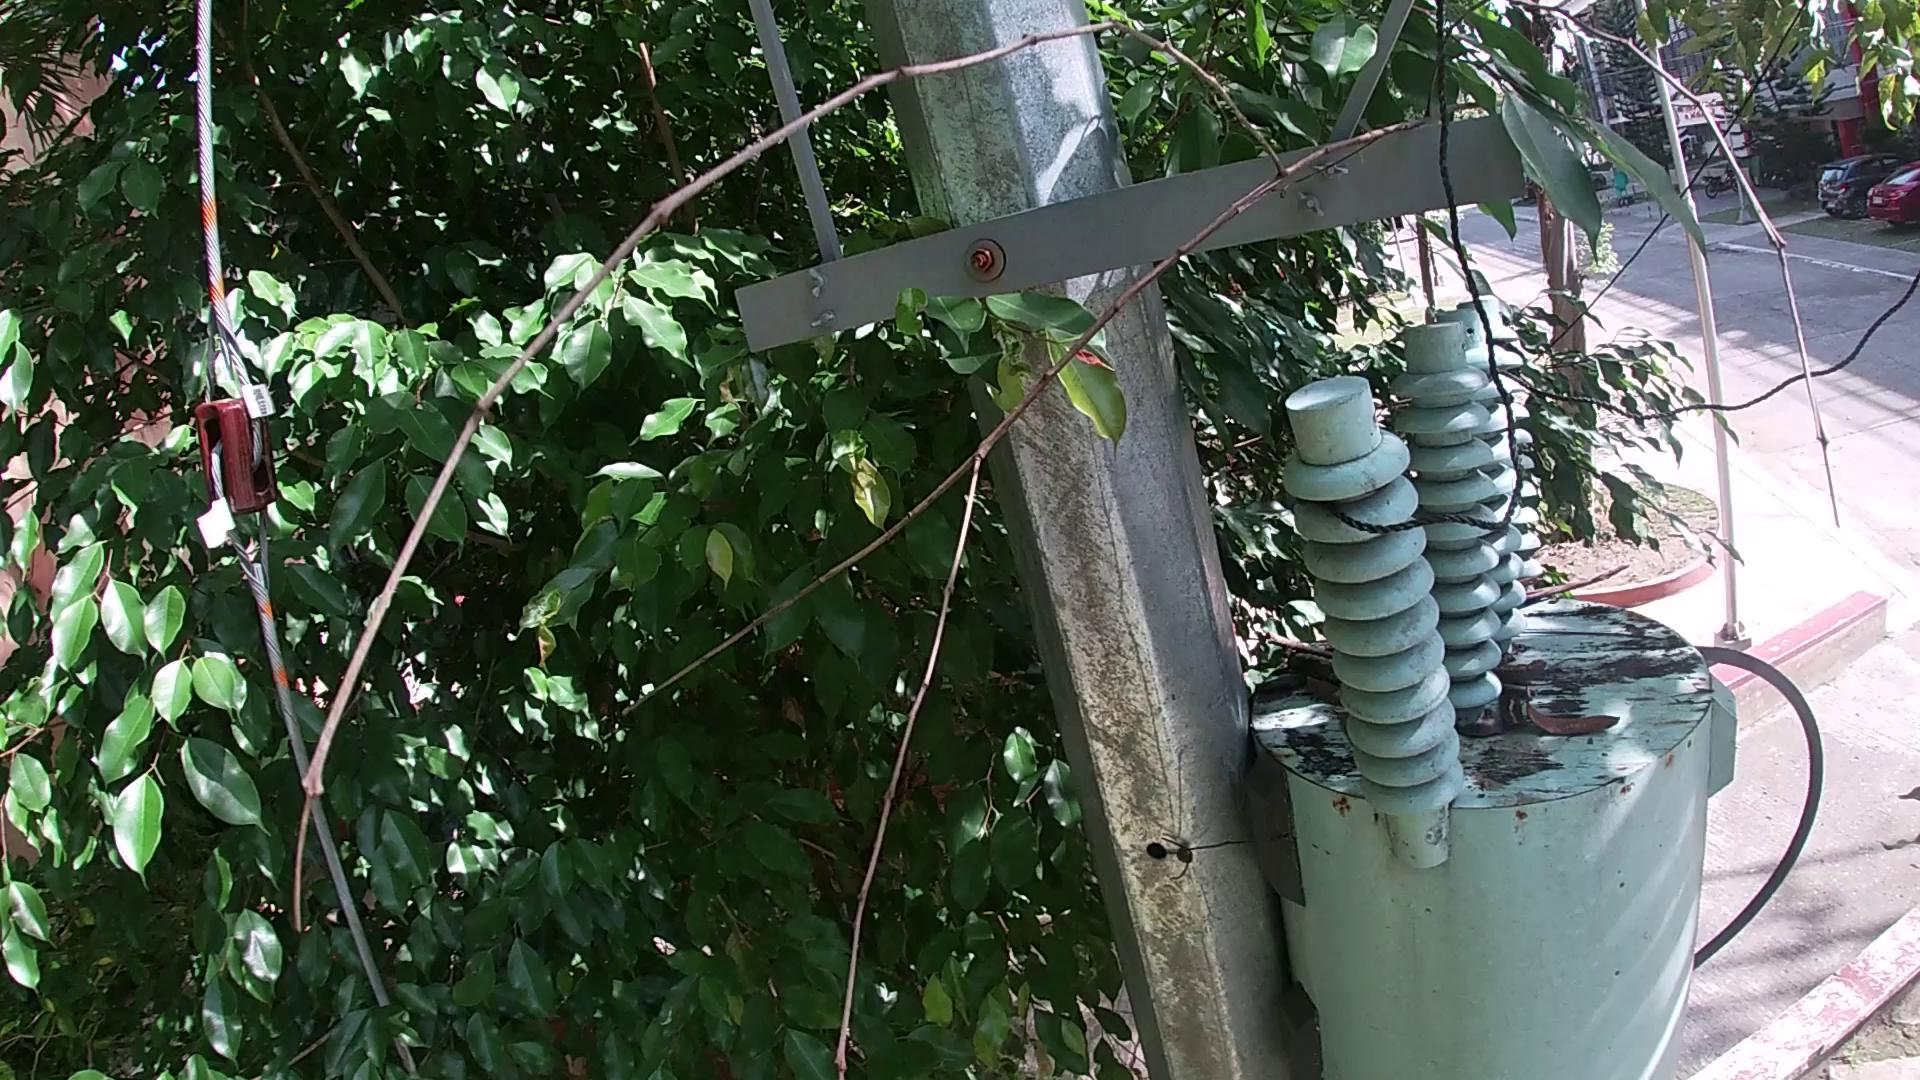leaf: (1519, 687, 1625, 744), (1302, 673, 1342, 707)
tree branch: (282, 1, 1847, 1076), (1516, 556, 1633, 613), (1263, 634, 1338, 676)
